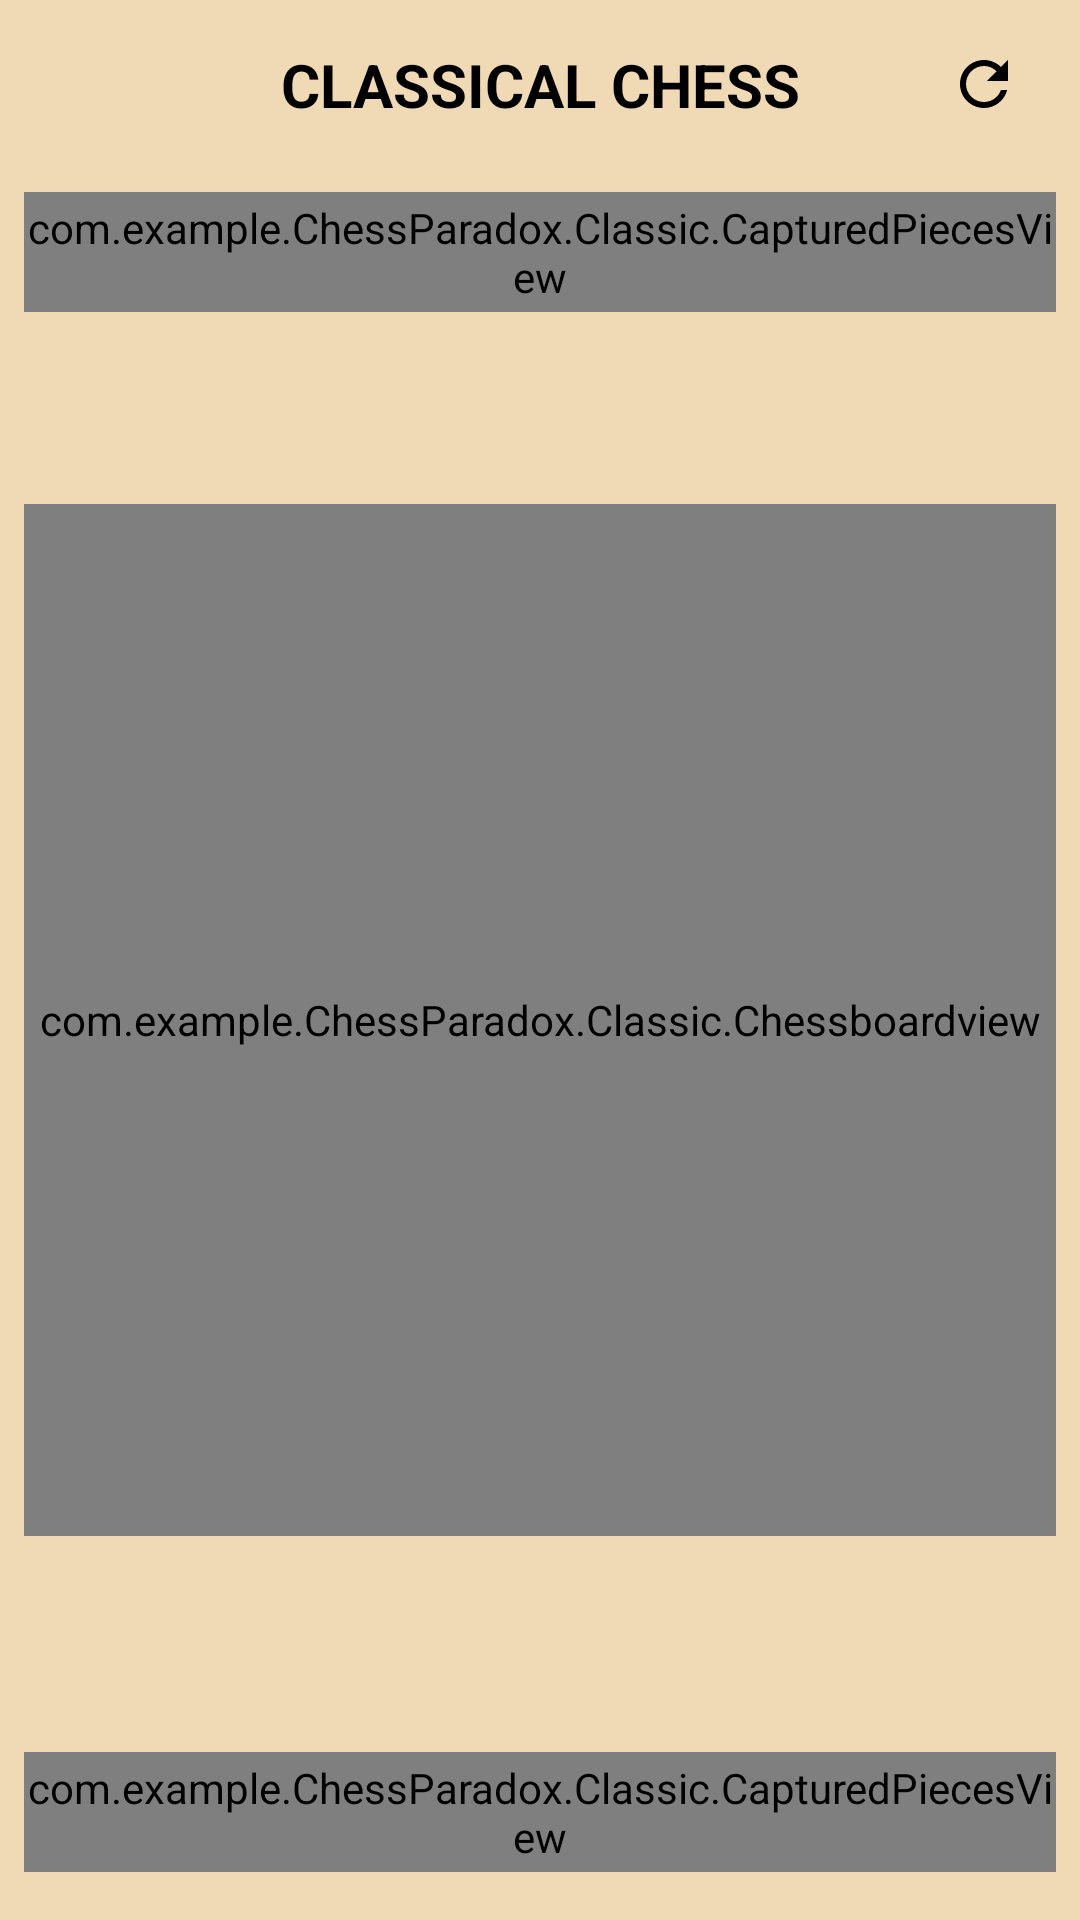

Locate icon controls on the screen. Image size 1080×1920, boxes as bbox=[x1, y1, x2, y2].
reset: bbox=[960, 60, 1008, 108]
